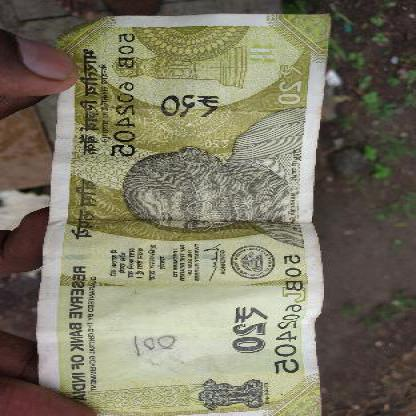New20Front: (60, 16, 323, 415)
